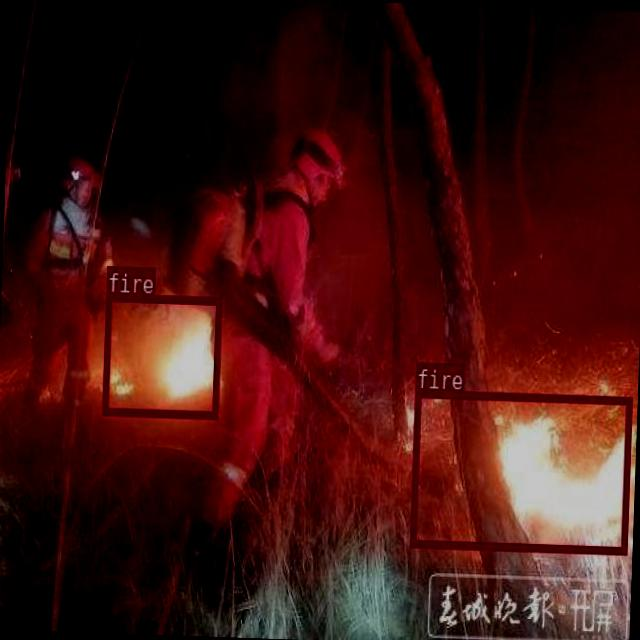fire: (408, 388, 630, 553), (100, 292, 220, 417)
